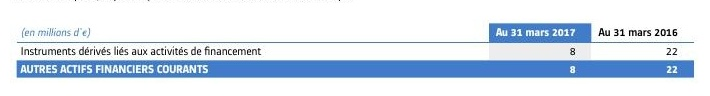table: (0, 0, 710, 96)
